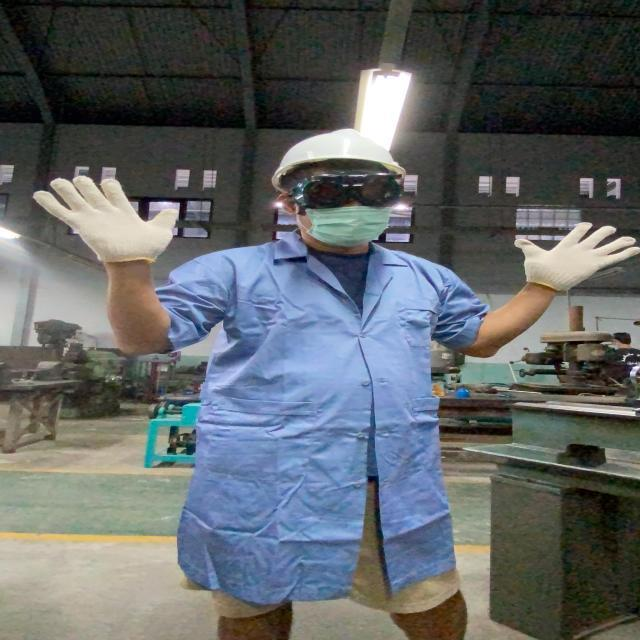gloves: (24, 170, 190, 270), (504, 217, 640, 301)
helmet: (260, 124, 416, 196)
